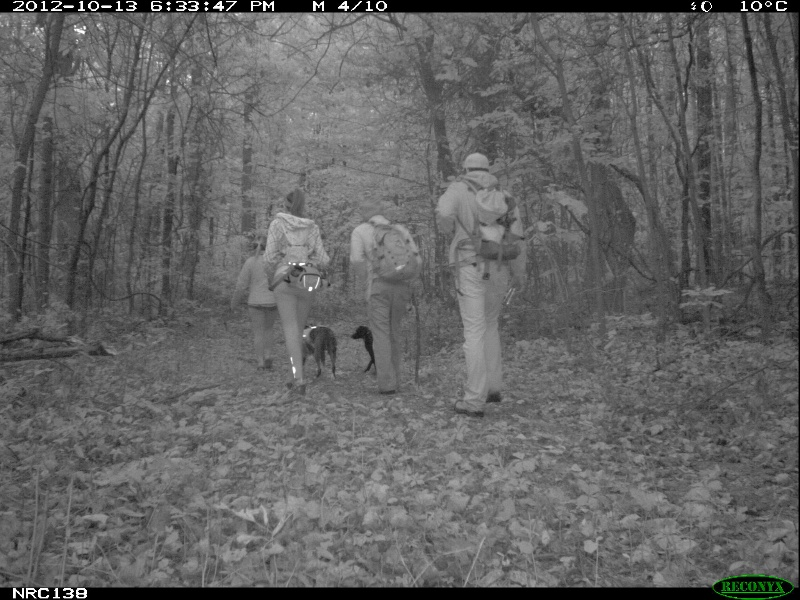dog: (297, 322, 337, 377), (354, 325, 379, 376)
human: (437, 151, 524, 419), (349, 212, 426, 398), (265, 191, 327, 393), (229, 242, 281, 370)
human legs: (450, 255, 515, 415), (367, 278, 415, 395), (275, 276, 313, 392), (249, 301, 279, 371)
